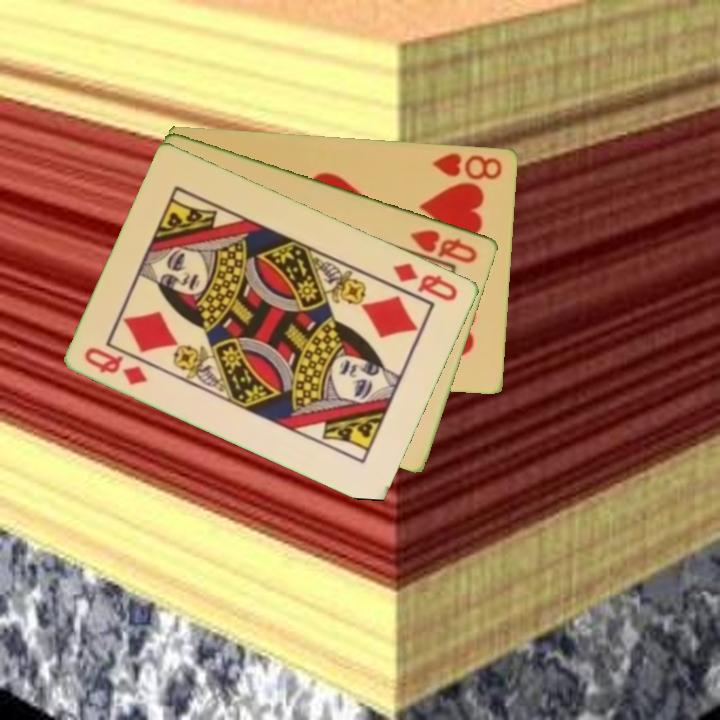8h: (429, 149, 506, 182)
Qd: (389, 259, 461, 304), (81, 343, 151, 388)
Qh: (407, 226, 481, 266)
